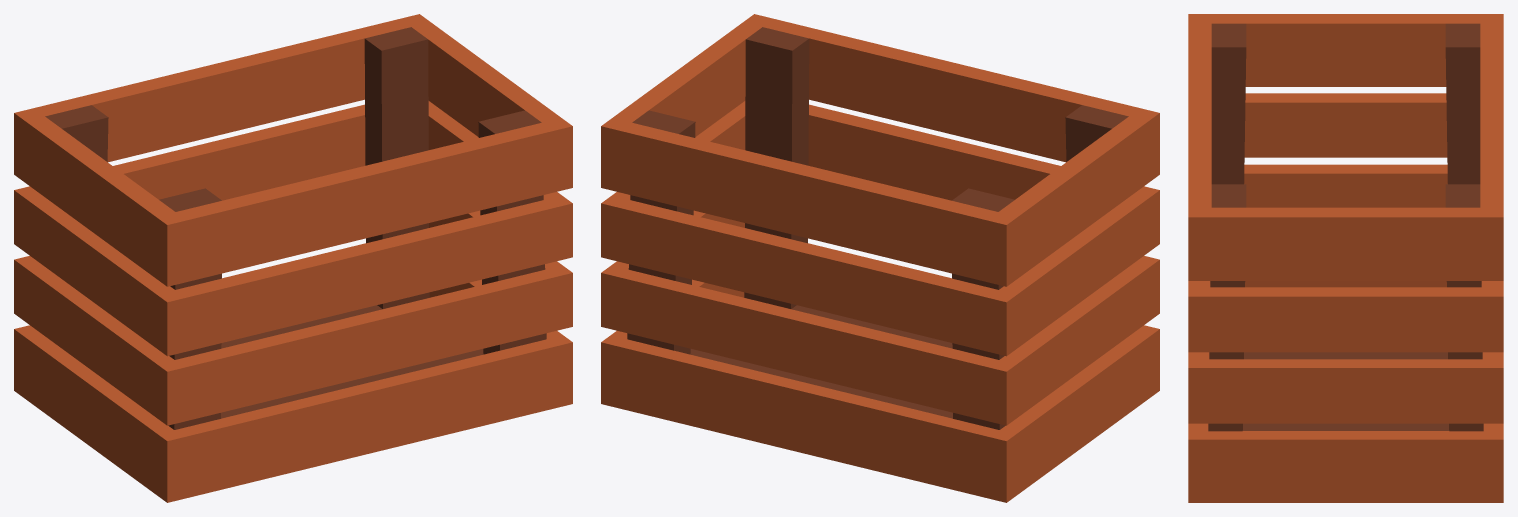
The model's file is SmallCrates.fbx.
3 views of the same model, side by side, from view 1: azimuth 30°, elevation 25°; view 2: azimuth 150°, elevation 25°; view 3: azimuth 270°, elevation 25° (orthographic). The views are drawn at different scales.
Parts seen in each view (by area): view 1: MarketStall.001; view 2: MarketStall.001; view 3: MarketStall.001.
Part boxes in pixels (box(x1,y1,x2,y2)): MarketStall.001: box(14, 14, 572, 502); MarketStall.001: box(601, 14, 1159, 502); MarketStall.001: box(1188, 14, 1503, 502).
Size of the model in its own units: 0.9042 by 0.5919 by 0.5919.
